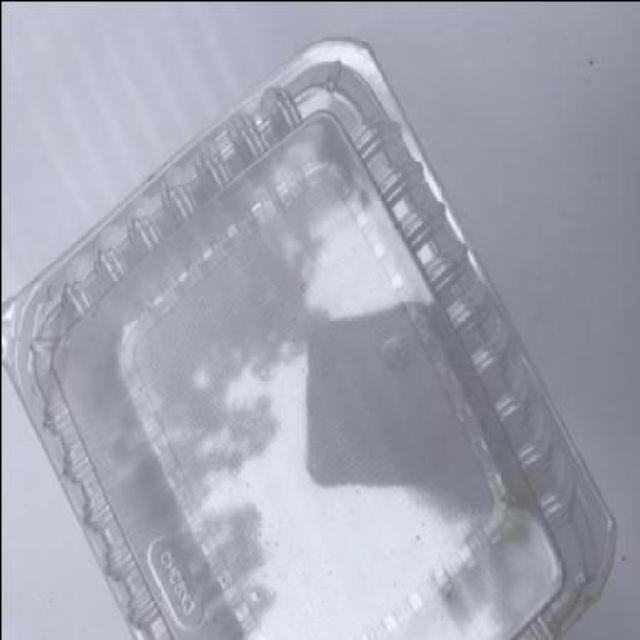PLASTIC: (1, 34, 614, 638)
